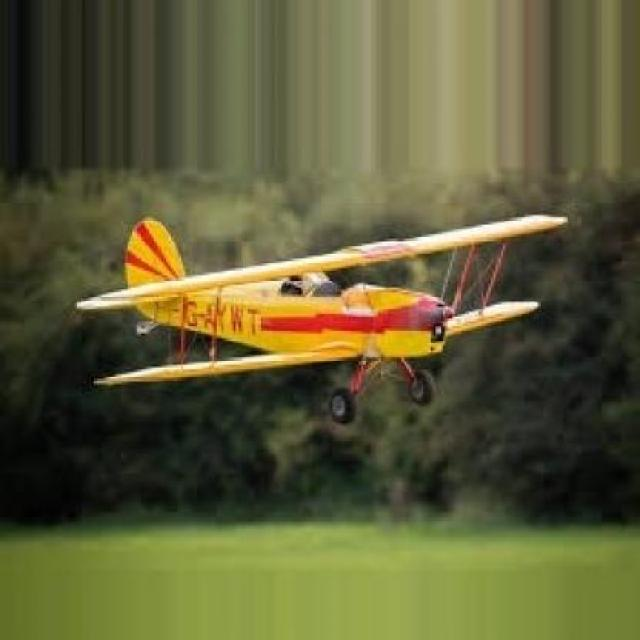iha: (75, 200, 574, 429)
